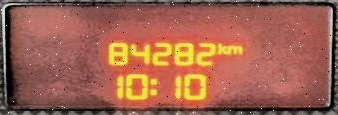0: (123, 71, 148, 100), (183, 71, 205, 100)
1: (112, 72, 123, 99), (172, 73, 181, 100)
2: (195, 40, 214, 67), (151, 40, 170, 67)
4: (128, 40, 150, 64)
8: (171, 40, 194, 67), (105, 40, 128, 66)
X: (227, 43, 244, 56), (215, 40, 228, 55), (148, 76, 156, 95)
